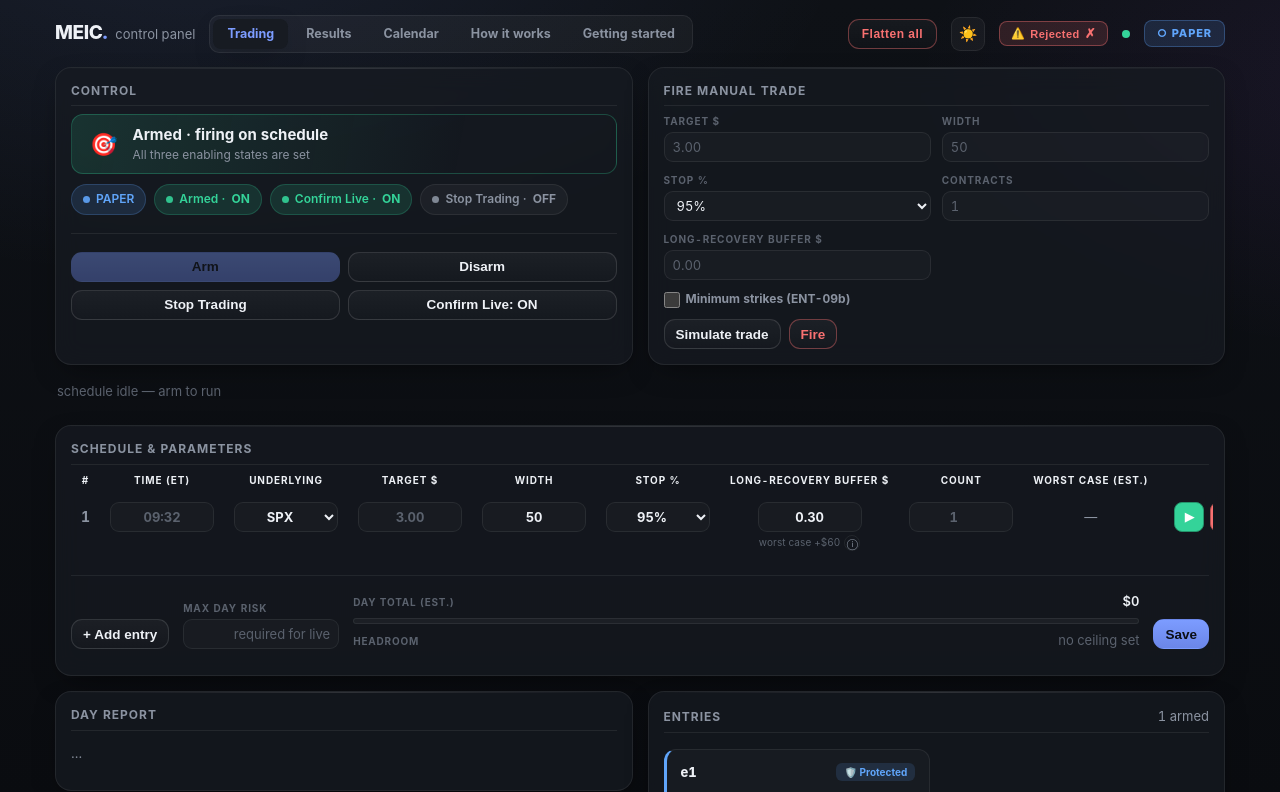
Scenario: App — Results routing (UI-27) › the Trading page keeps its Flatten all button; Results does not
Expected: the button "Flatten all" is shown, [848,19,937,49]
Click the link "Results": (329, 34) [306,26,351,41]
(page scrolled)
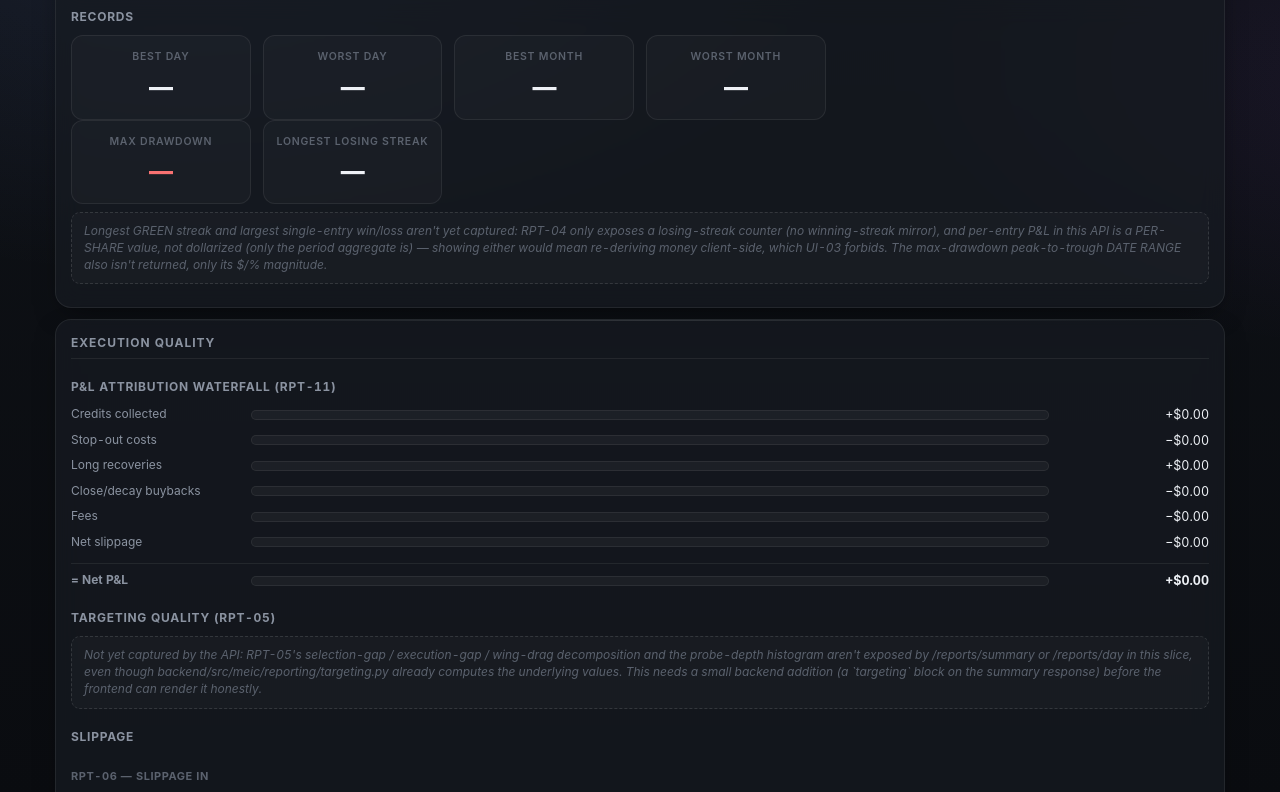
Expected: the button "Flatten all" is gone
